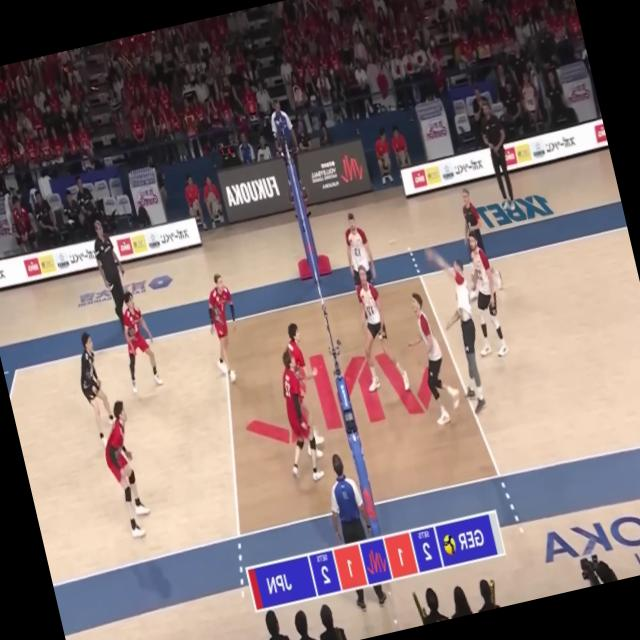referee: (318, 449, 388, 614)
team_one: (424, 240, 497, 418), (396, 286, 467, 429), (340, 260, 412, 400), (452, 228, 511, 362), (452, 184, 504, 295), (336, 208, 384, 313)
team_two: (93, 398, 156, 542), (265, 347, 325, 486), (277, 320, 334, 448), (68, 330, 122, 450), (197, 270, 252, 386), (110, 286, 166, 394)
